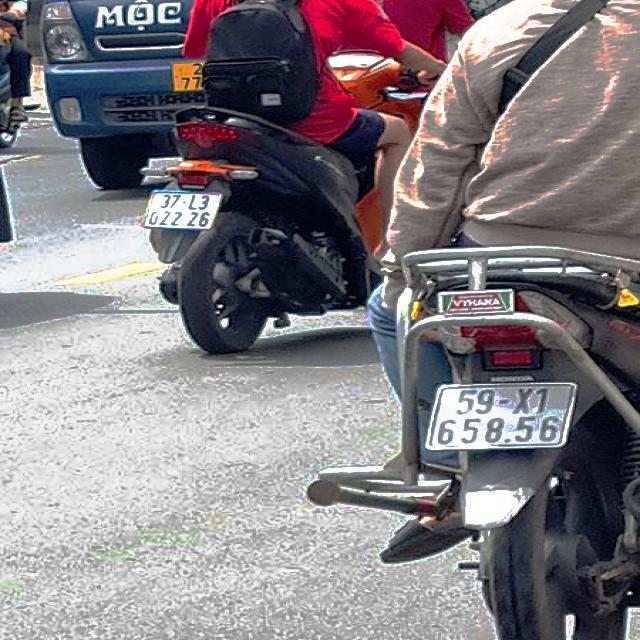license_plate: (433, 384, 575, 449), (144, 192, 224, 231)
